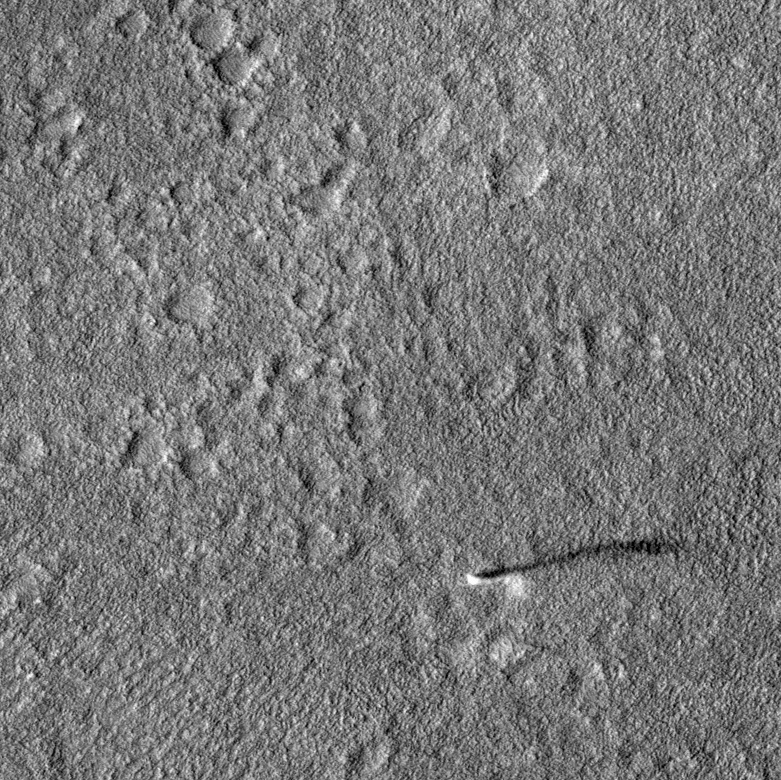dust_devil: (463, 530, 687, 601)
